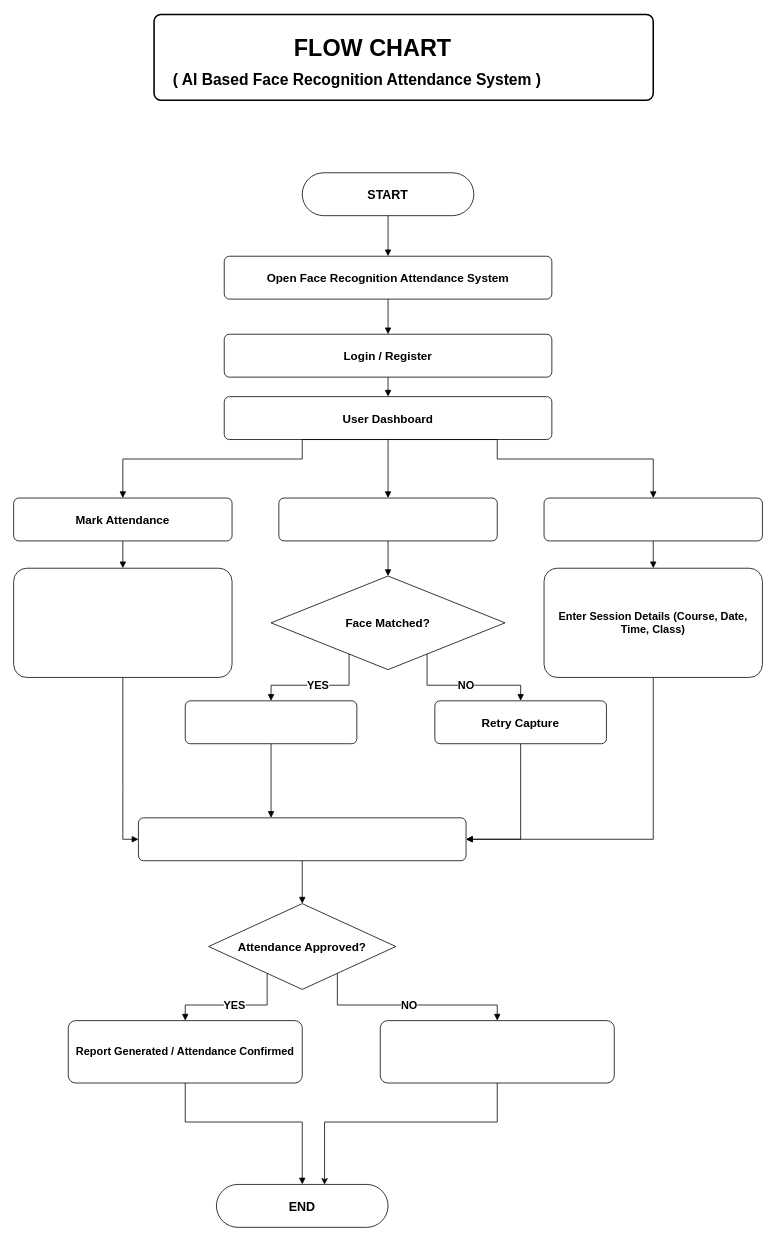
This 776x1241 diagram has some shape labels left out. Each missing label, with the centre of its shape:
Admin Review / Verification: point 302,839
Attendance Rejected / Re-mark: point 496,1051
Enter Attendance Details (Name, ID, Webcam Capture, Date, Time): point 122,622
Mark Present: point 270,722
Take Class Attendance: point 652,519
View Attendance Records: point 387,519
